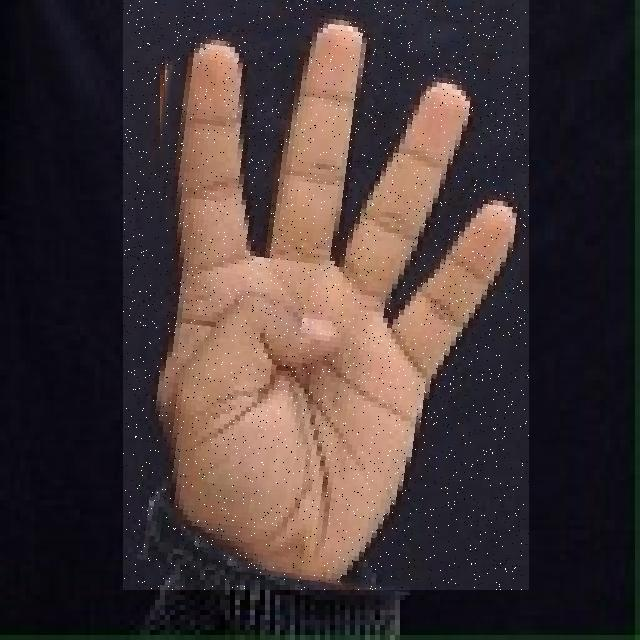Thanks: (123, 0, 529, 590)
